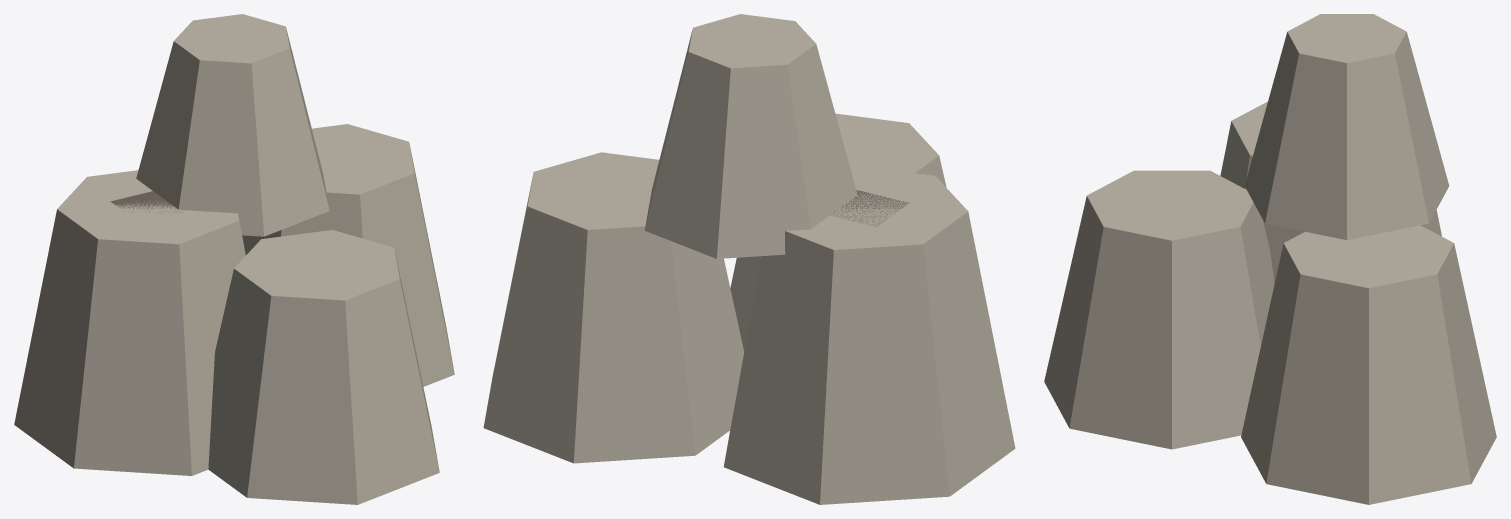
The model's file is sack.glb.
The picture shows the model from 3 angles, left to right: view 1: azimuth 30°, elevation 25°; view 2: azimuth 150°, elevation 25°; view 3: azimuth 270°, elevation 25°; orthographic projection. The views are drawn at different scales.
Visible parts, largest first — view 1: sack; view 2: sack; view 3: sack.
Part boxes in pixels (<box>): sack: <box>14,14,454,504</box>; sack: <box>483,14,1015,504</box>; sack: <box>1044,14,1496,504</box>.
Size of the model in its own units: 1.14 by 0.9 by 1.03.
